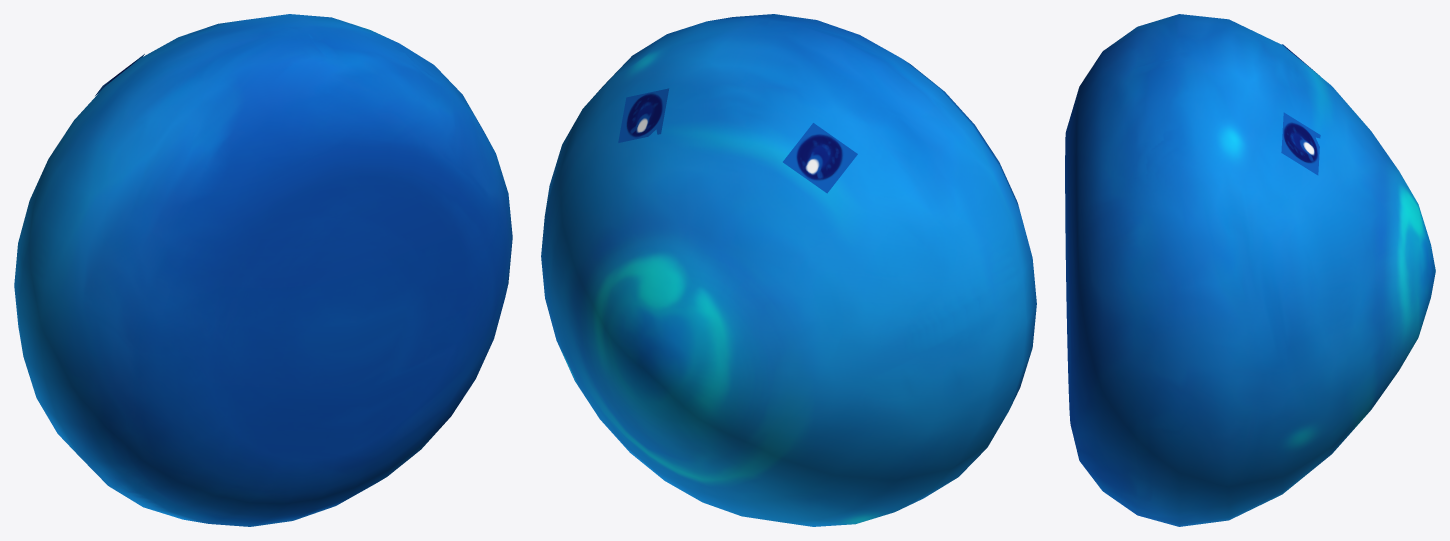
Rendered from slime2.fbx.
The picture shows the model from 3 angles, left to right: view 1: azimuth 30°, elevation 25°; view 2: azimuth 150°, elevation 25°; view 3: azimuth 270°, elevation 25°; orthographic projection. The views are drawn at different scales.
Parts seen in each view (by area): view 1: Slime; view 2: Slime; view 3: Slime.
Boxes of the visible parts, bbox=[...] form: Slime: bbox=[14, 14, 512, 526]; Slime: bbox=[541, 14, 1036, 526]; Slime: bbox=[1065, 14, 1435, 526].
Size of the model in its own units: 194 by 194 by 140.
